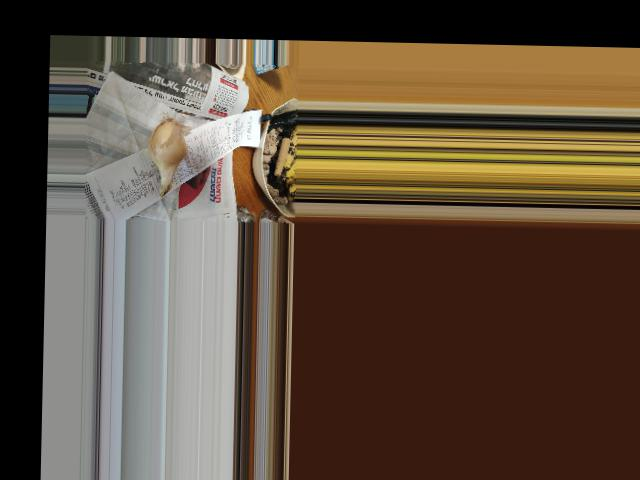onion: (149, 122, 188, 173)
